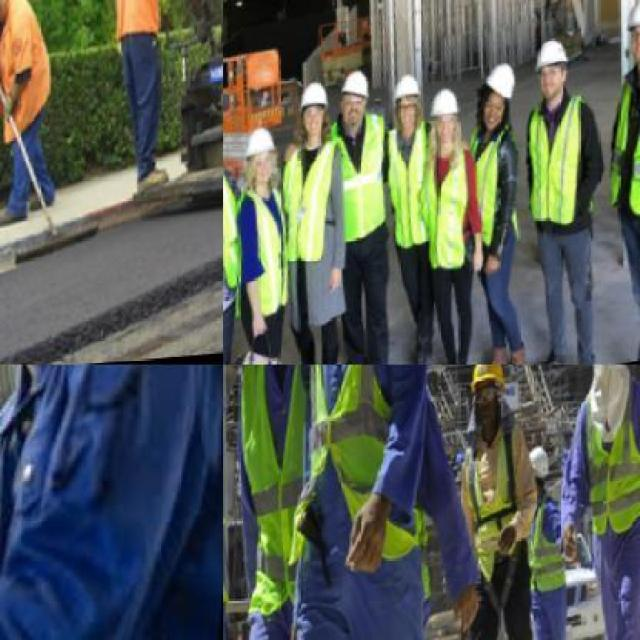Vest: (282, 364, 464, 584), (223, 365, 352, 629), (521, 94, 614, 251), (459, 425, 546, 580), (238, 174, 317, 334), (324, 111, 410, 257), (572, 376, 638, 556), (280, 136, 362, 276), (415, 146, 494, 288), (383, 122, 457, 263), (0, 5, 74, 143), (223, 374, 262, 635), (464, 122, 536, 263), (598, 60, 638, 237), (223, 160, 266, 309), (528, 492, 583, 600), (108, 0, 183, 51)
